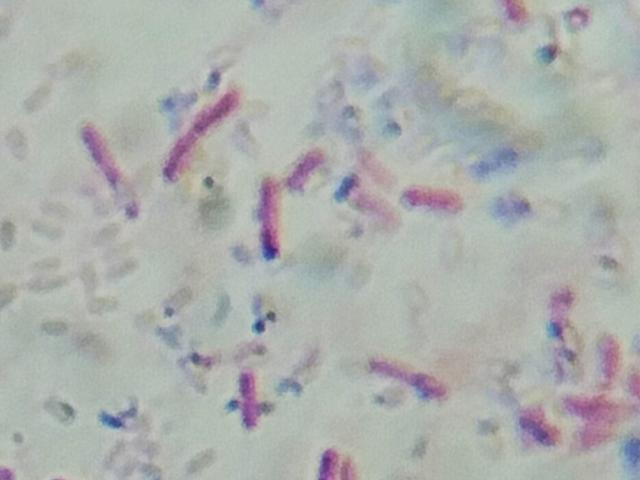E. coli: (162, 88, 250, 176), (82, 117, 129, 210), (369, 353, 448, 398), (256, 170, 279, 258), (399, 182, 461, 213), (351, 187, 389, 235), (312, 439, 353, 480), (236, 370, 263, 426), (519, 403, 553, 446), (562, 396, 631, 417), (288, 147, 321, 186), (596, 337, 621, 385), (576, 422, 608, 450)
